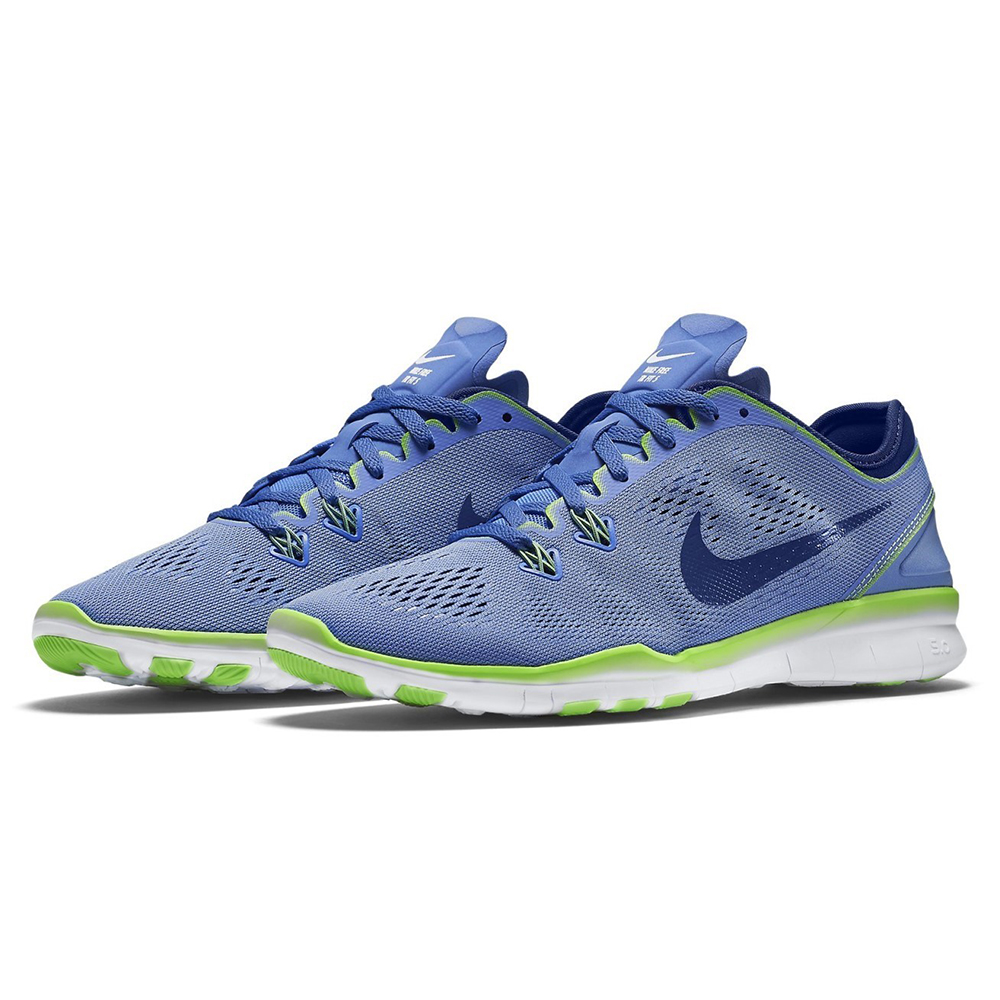Nike: (676, 491, 898, 611)
